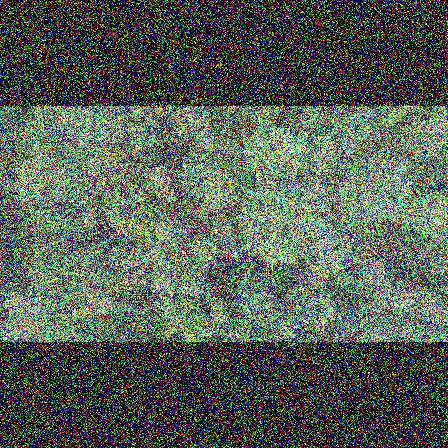Dead: (102, 242, 139, 263)
